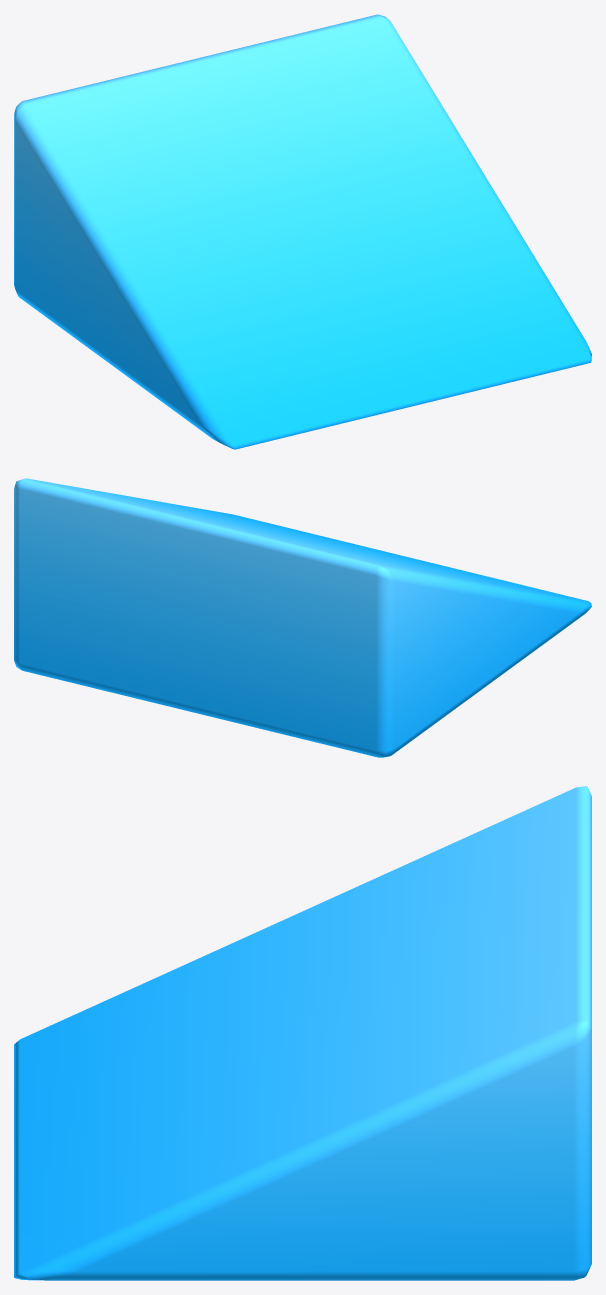
File: PlatformAngle_01.glb
3 views of the same model, one above another, from view 1: azimuth 30°, elevation 25°; view 2: azimuth 150°, elevation 25°; view 3: azimuth 270°, elevation 25° (orthographic). The views are drawn at different scales.
Parts seen in each view (by area): view 1: PlatformAngle_01; view 2: PlatformAngle_01; view 3: PlatformAngle_01.
Boxes of the visible parts, <box> form: PlatformAngle_01: <box>14,14,591,449</box>; PlatformAngle_01: <box>14,478,591,757</box>; PlatformAngle_01: <box>14,786,591,1280</box>.
Bounding box in the file's own units: 6 × 2.93 × 5.9.
1 material, 1 textured.
